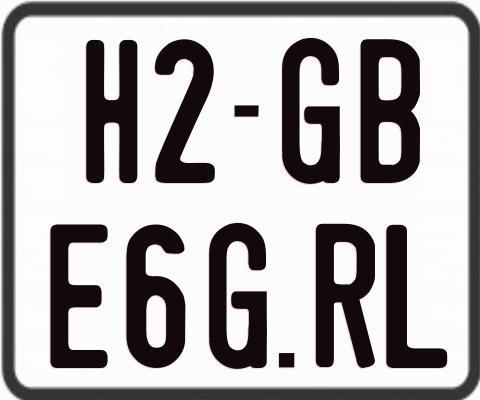2: (154, 37, 217, 185)
6: (124, 224, 186, 367)
B: (358, 37, 419, 183)
E: (48, 224, 107, 372)
G: (281, 35, 340, 187), (206, 222, 266, 368)
H: (86, 40, 141, 189)
L: (386, 225, 451, 373)
R: (314, 223, 379, 370)
